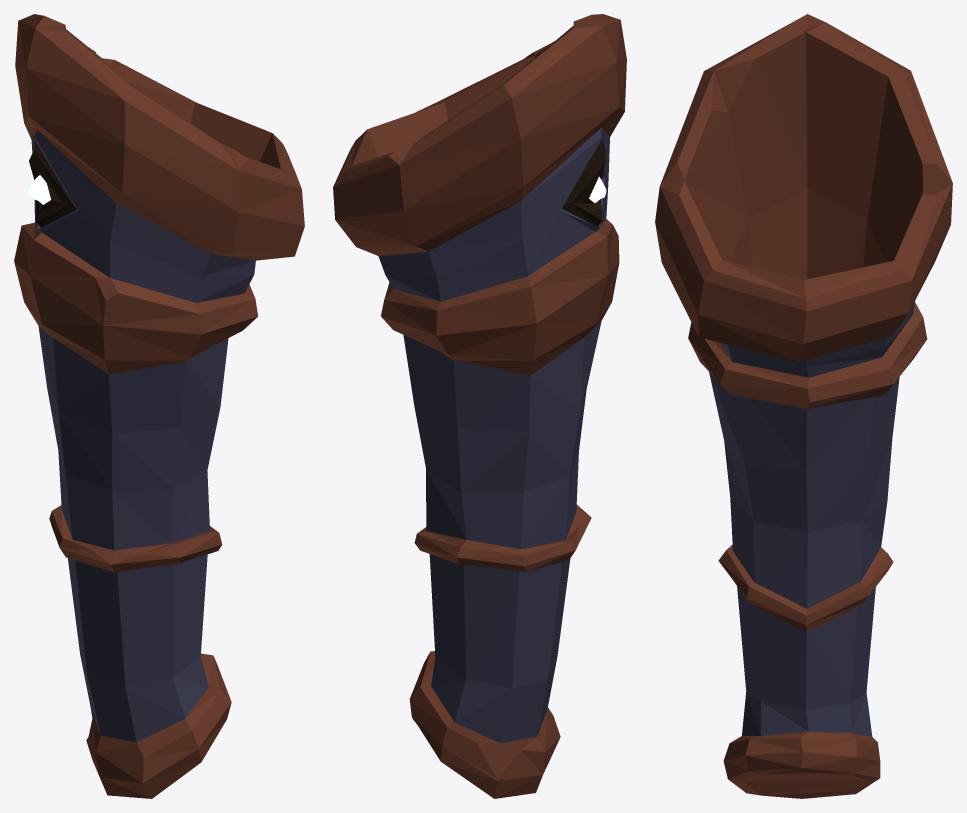
Rendered from SFFA_Arrow_Bag_Runical_002.fbx.
3 views of the same model, side by side, from view 1: azimuth 30°, elevation 25°; view 2: azimuth 150°, elevation 25°; view 3: azimuth 270°, elevation 25° (orthographic). The views are drawn at different scales.
Visible parts, largest first — view 1: SFFA_Arrow_Bag_Runical_002; view 2: SFFA_Arrow_Bag_Runical_002; view 3: SFFA_Arrow_Bag_Runical_002.
Boxes of the visible parts, left/top/right/bottom form: SFFA_Arrow_Bag_Runical_002: left=14, top=14, right=304, bottom=798; SFFA_Arrow_Bag_Runical_002: left=333, top=14, right=626, bottom=798; SFFA_Arrow_Bag_Runical_002: left=655, top=14, right=952, bottom=798.
Size of the model in its own units: 27.5 by 78 by 27.97.
